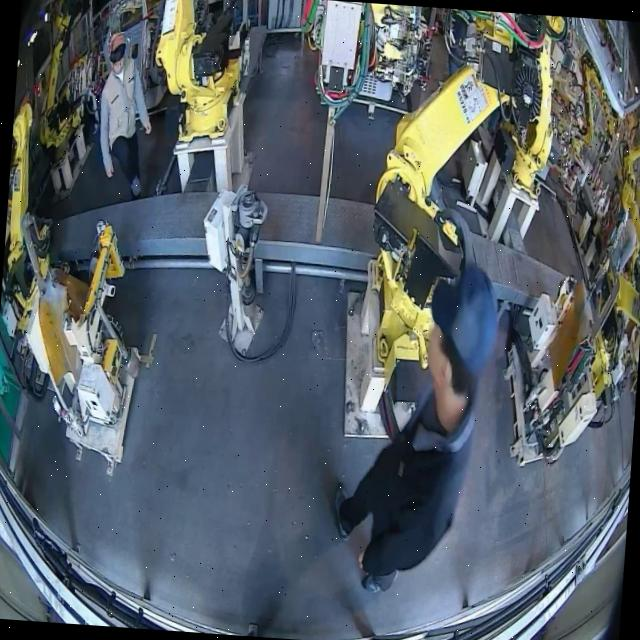Person: (327, 255, 501, 602), (94, 31, 158, 198)
